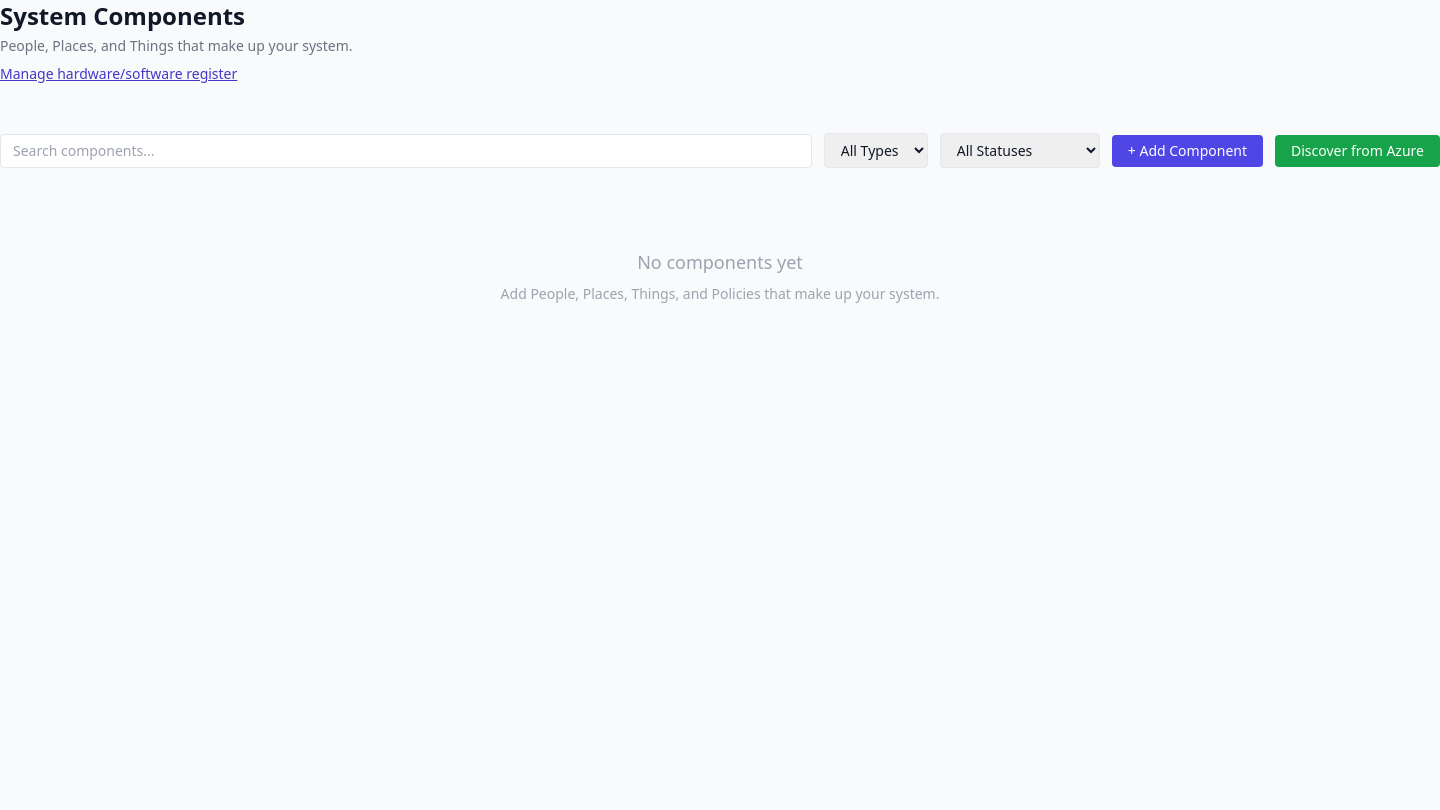
ComponentInventory — Add Existing empty-state messages › (C) shows search-no-match copy when search term yields no results
The image size is (1440, 810).
Click the button "+ Add Component" at point(1187, 150), box [1112,134,1263,166]
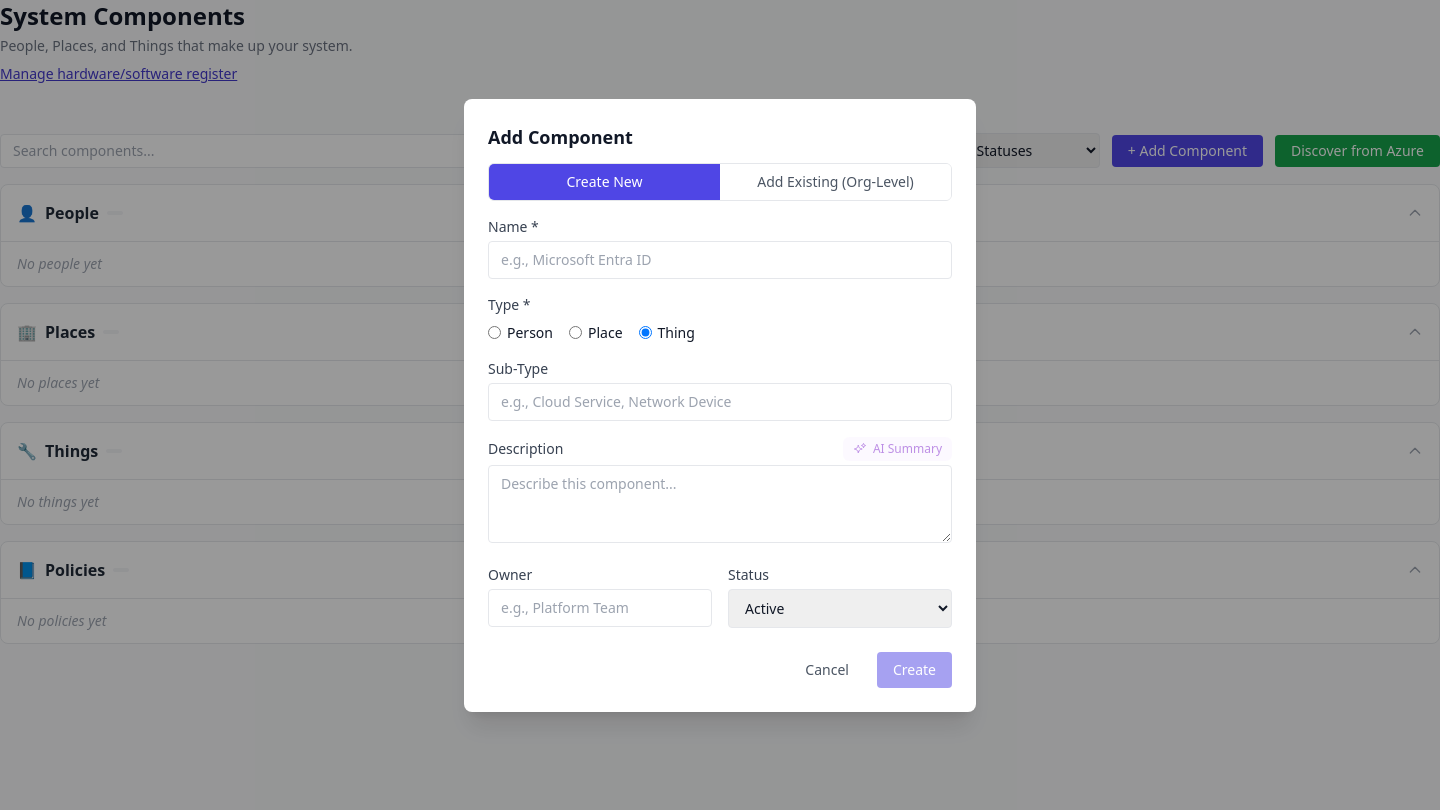
Click the button "Add Existing (Org-Level)" at point(836, 182), box [720,164,951,200]
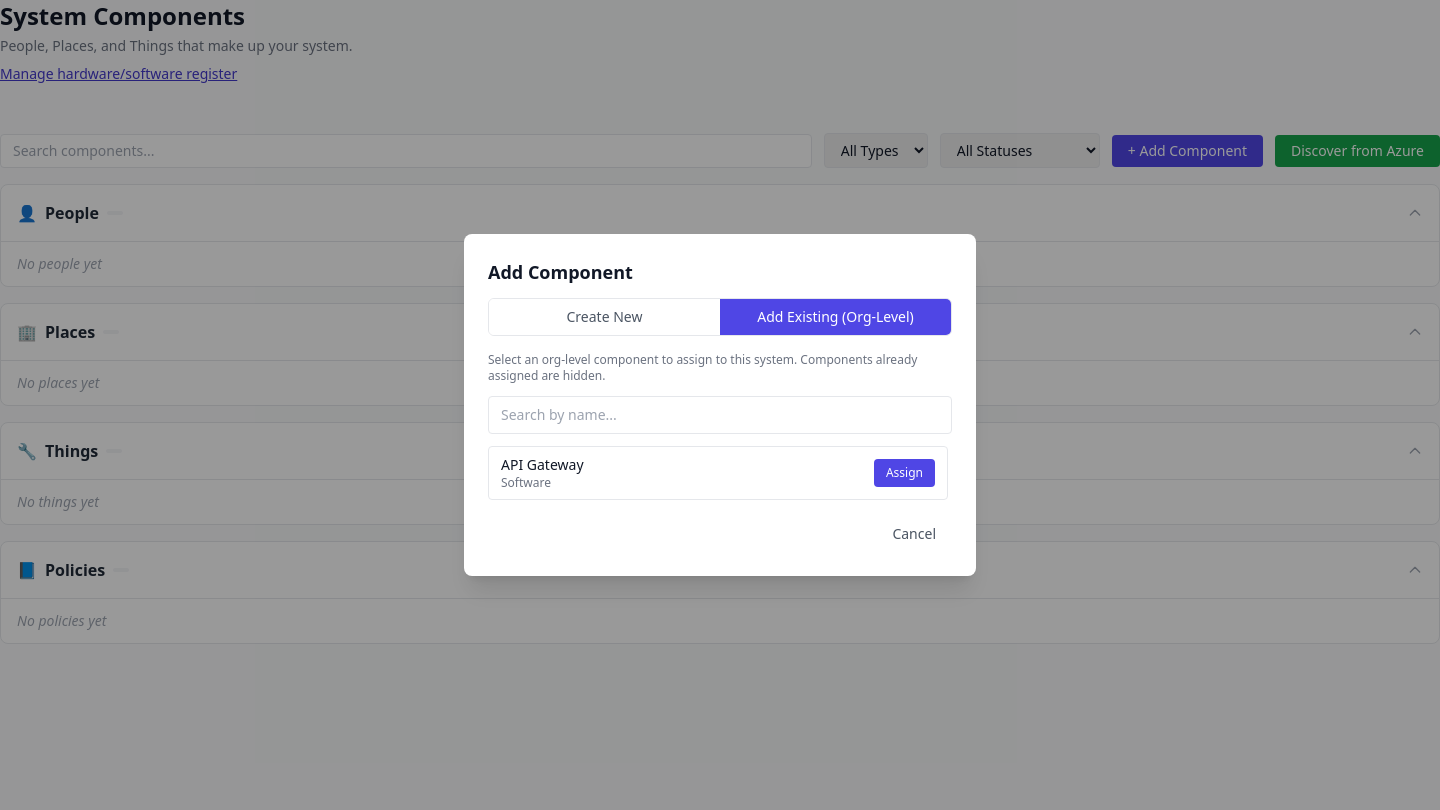
Result: the text "API Gateway" is shown at [501,455,584,475]
Type "zzz-no-match-zzz" into the field with placeholder "Search by name..." at point(720, 415), box [488,396,952,434]
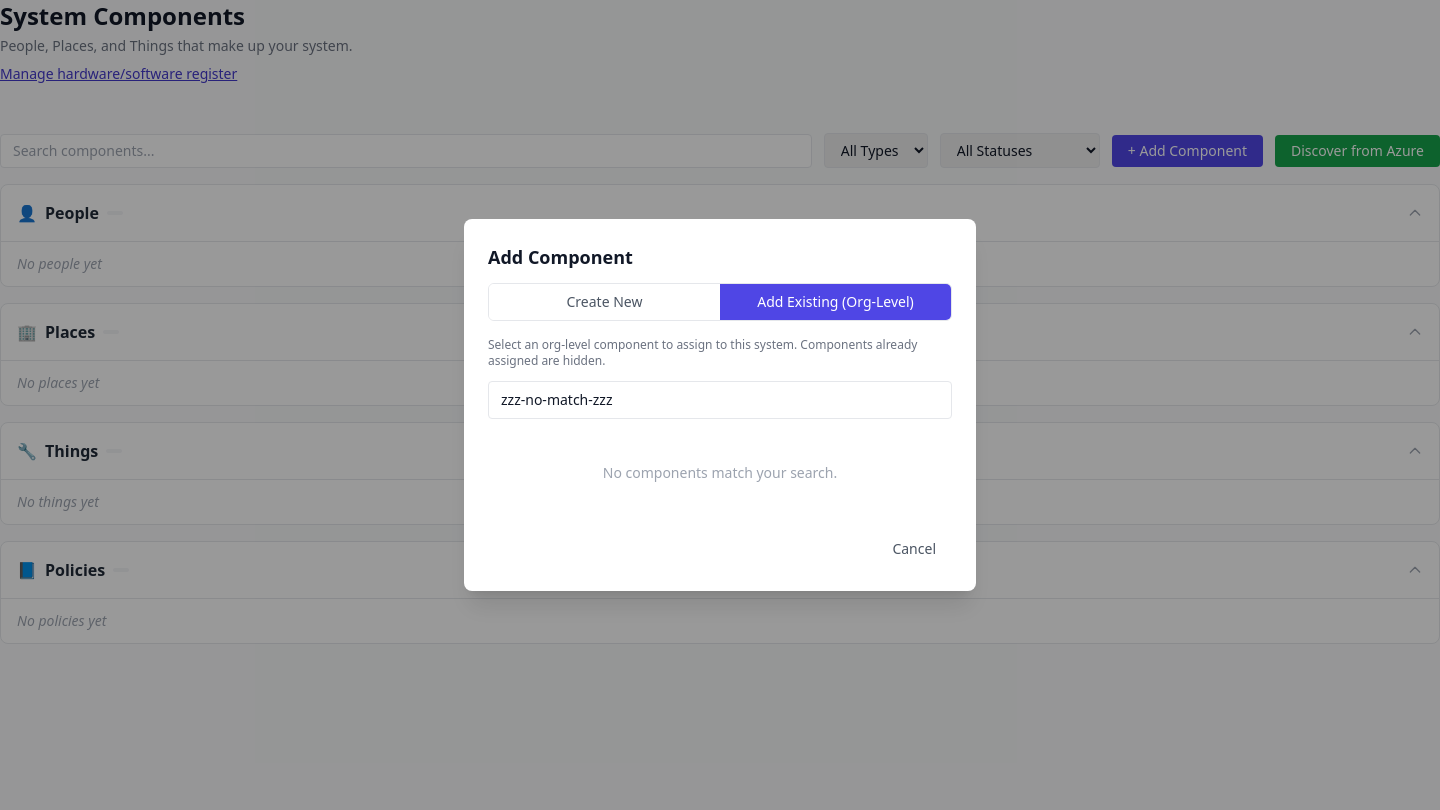
Result: the text "No components match your search." is shown at [603,463,837,482]
